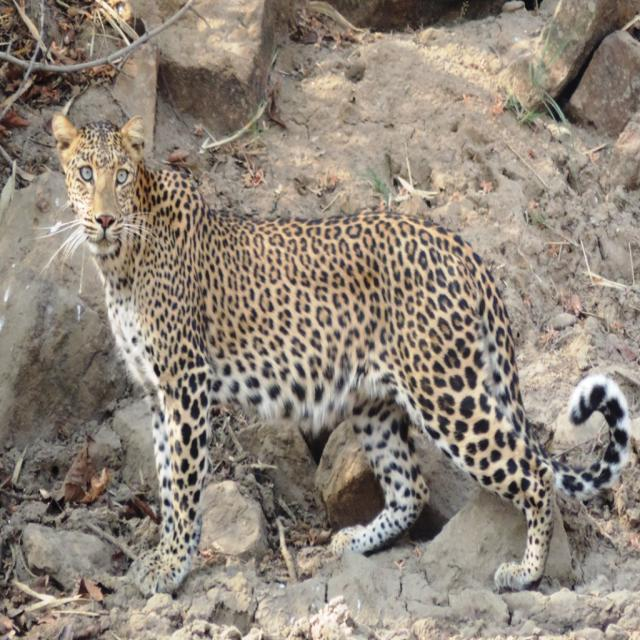Leopard: (52, 112, 633, 583)
